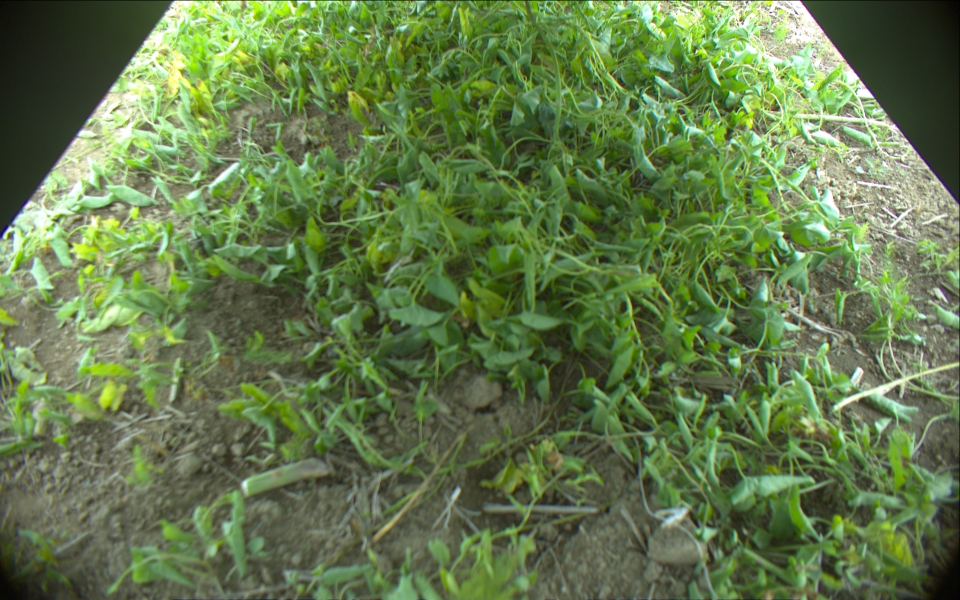aspa: (524, 1, 560, 150), (237, 454, 329, 497)
